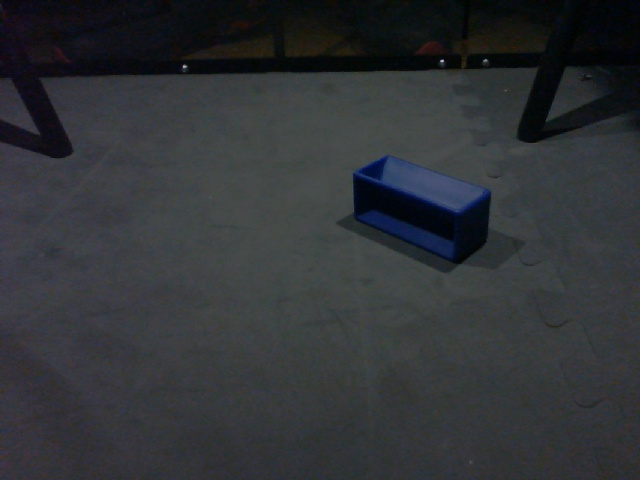BlueSample: (350, 153, 492, 267)
